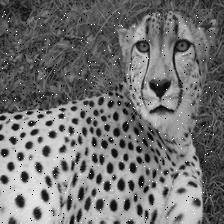Cheetha: (0, 9, 216, 223)
